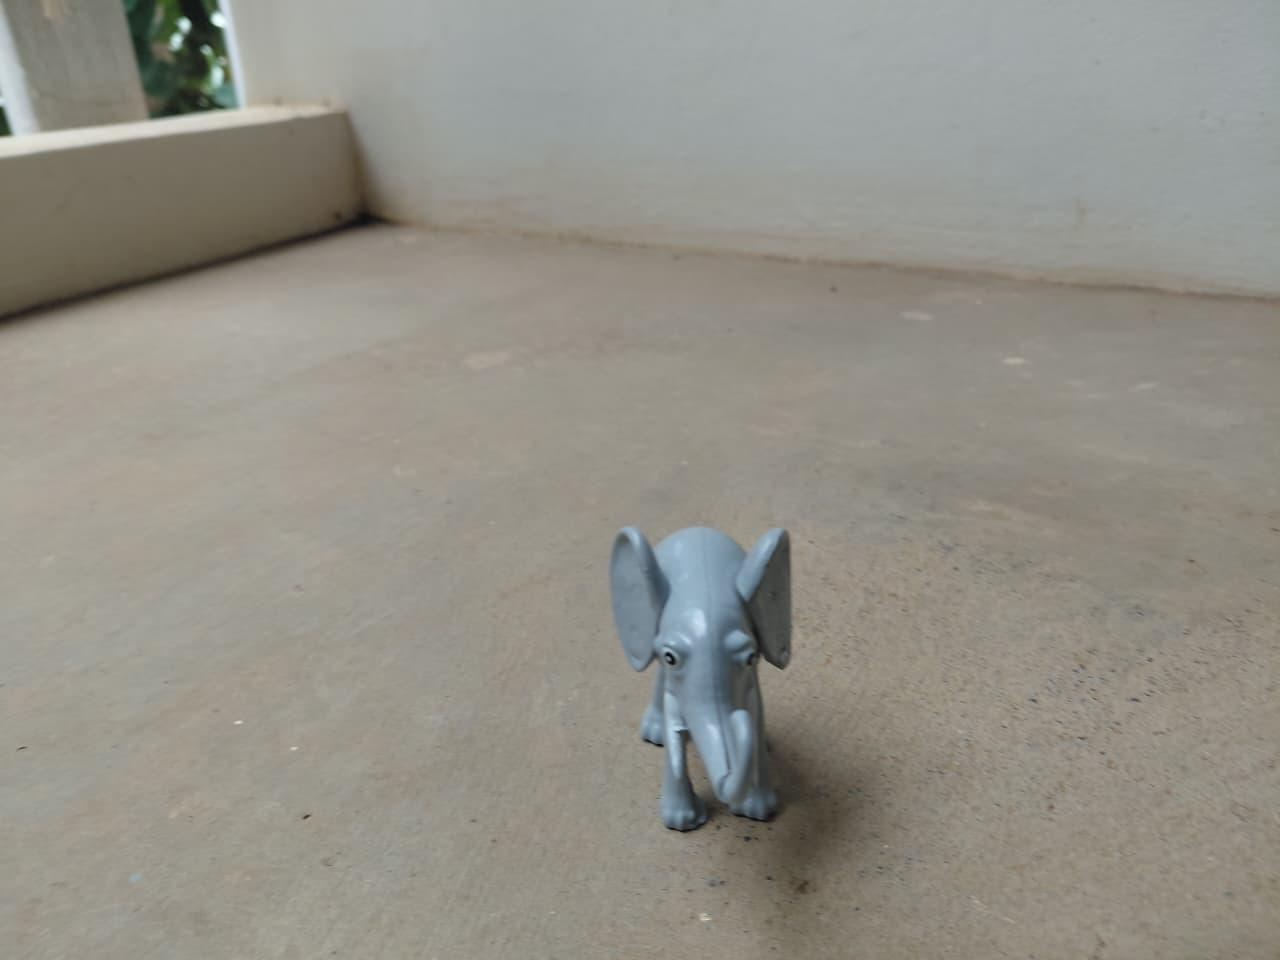elephant: (600, 492, 828, 861)
